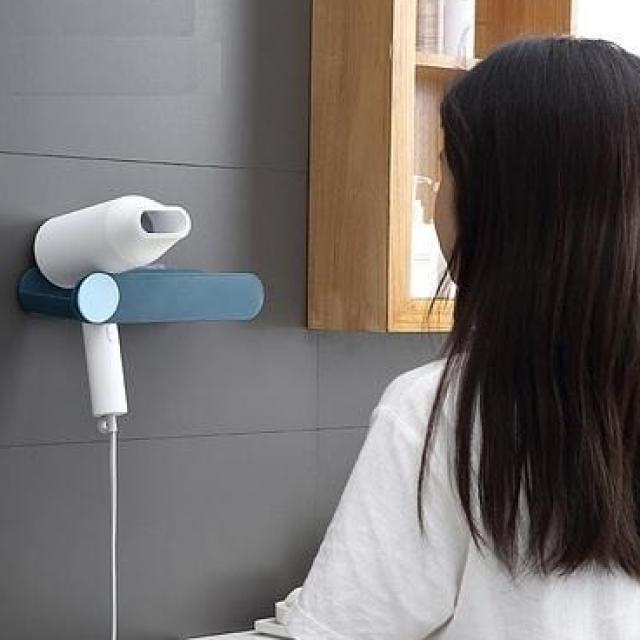dryer: (0, 158, 228, 640), (9, 185, 209, 457)
